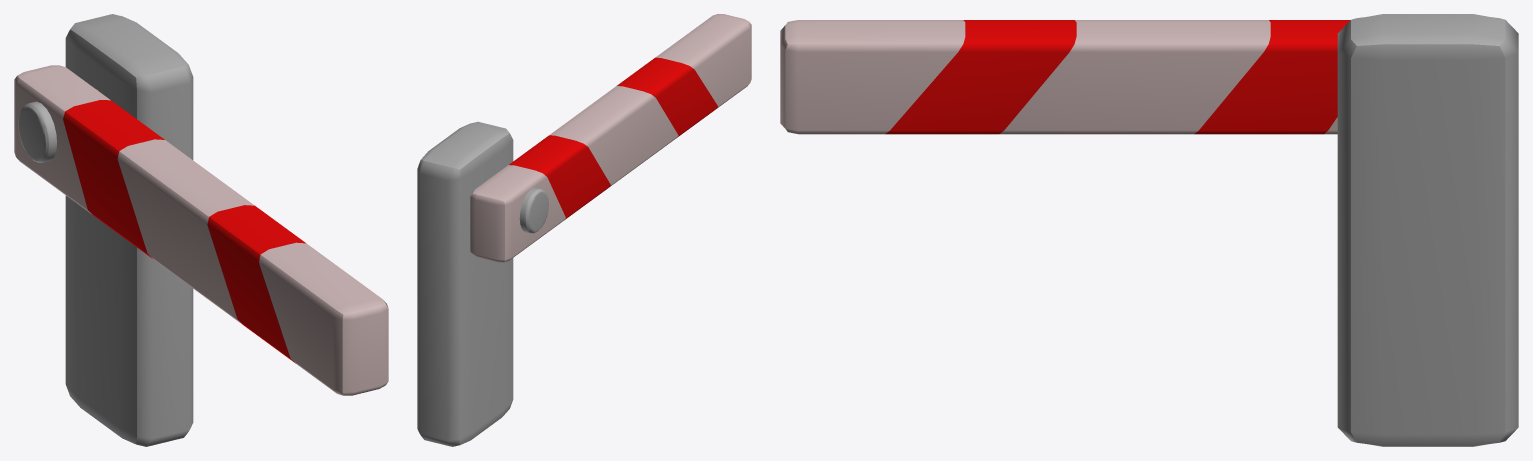
File: barriernew.fbx
The picture shows the model from 3 angles, left to right: view 1: azimuth 30°, elevation 25°; view 2: azimuth 150°, elevation 25°; view 3: azimuth 270°, elevation 25°; orthographic projection. The views are drawn at different scales.
Parts seen in each view (by area): view 1: pCube241, pCube242, pCylinder33; view 2: pCube242, pCube241, pCylinder33; view 3: pCube242, pCube241.
Boxes of the visible parts, x1,y1,x2,y2 form: pCube241: (14,65,388,395); pCube242: (65,14,193,446); pCylinder33: (18,90,97,162); pCube242: (417,121,513,446); pCube241: (470,14,751,262); pCylinder33: (489,178,548,233); pCube242: (1337,14,1518,446); pCube241: (780,20,1350,134).
Size of the model in its own units: 16.55 by 46.43 by 75.2.
